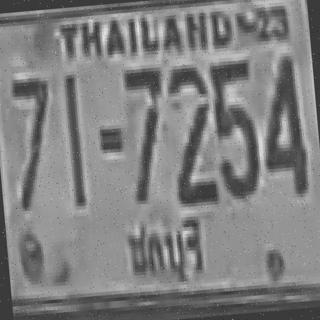N01: (62, 71, 86, 203)
N02: (165, 60, 217, 204)
N04: (255, 54, 306, 194)
N05: (207, 56, 258, 197)
N07: (122, 64, 168, 201), (9, 74, 56, 208)
P13: (121, 210, 209, 295)
